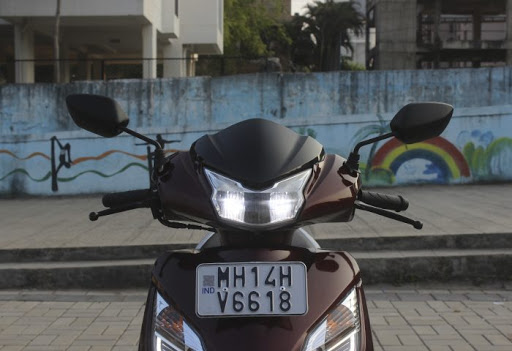doublelinenumberplate: (194, 259, 309, 318)
